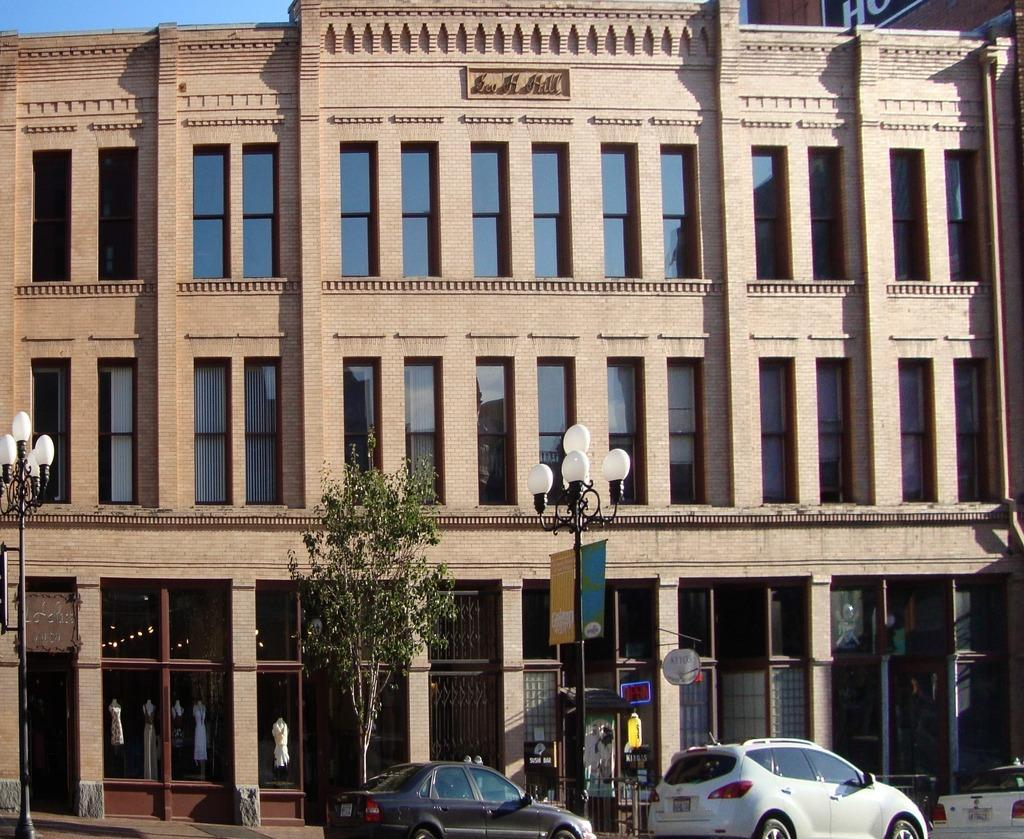window: (33, 359, 73, 506), (99, 358, 139, 504), (193, 357, 233, 503), (244, 357, 284, 503), (343, 359, 383, 505), (478, 359, 518, 505), (538, 358, 578, 504), (609, 359, 649, 505), (666, 358, 706, 504), (759, 358, 799, 504), (817, 360, 857, 506), (895, 359, 935, 505), (954, 359, 994, 505), (406, 357, 445, 503), (242, 143, 280, 279), (32, 150, 70, 286), (342, 143, 380, 279), (402, 142, 440, 278), (473, 142, 511, 278), (534, 143, 572, 279), (603, 144, 641, 280), (946, 150, 984, 286), (194, 144, 232, 279), (101, 147, 139, 282), (662, 146, 700, 281), (754, 147, 792, 282), (812, 148, 850, 283), (893, 148, 931, 283)
